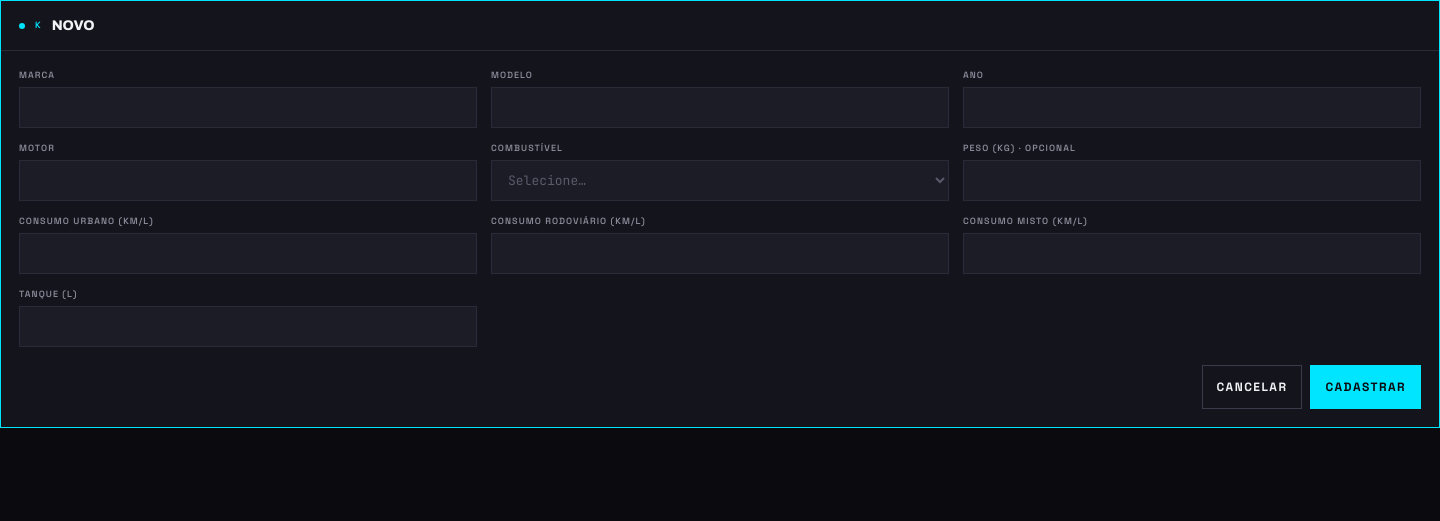
VehicleForm (JOA-RF-01/02) › SPEC: campos inválidos exibem erro e não salvam
The width and height of the screenshot is (1440, 521).
Click the button "CADASTRAR".
click(1366, 387)  # box [1310, 365, 1421, 409]
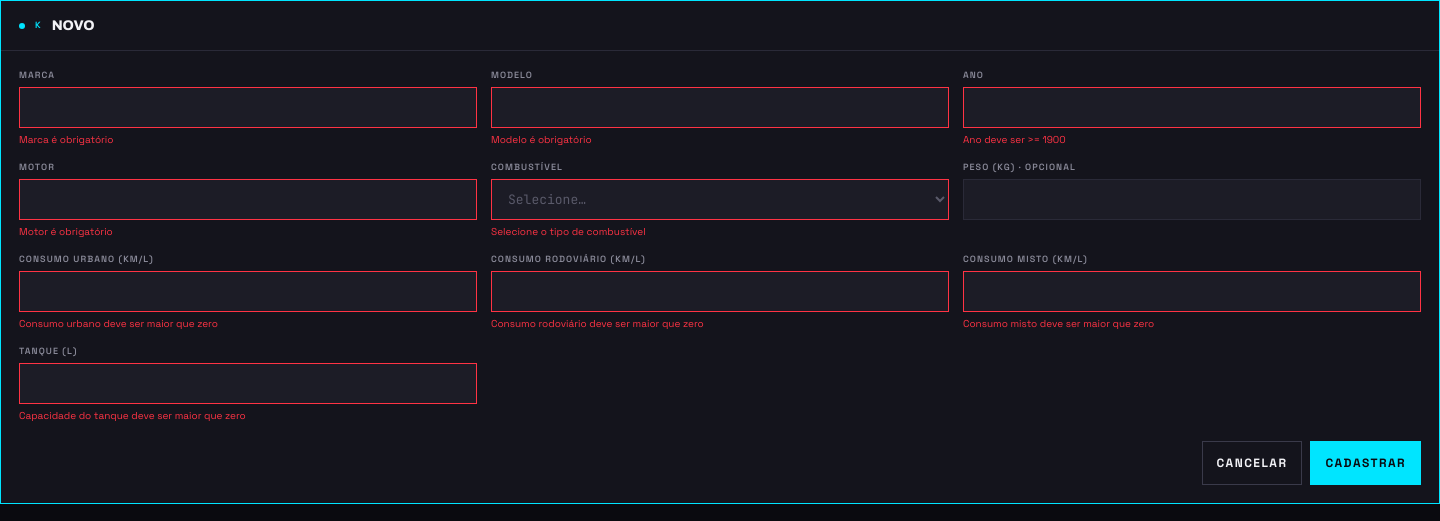
Now the text "Marca é obrigatório" is shown, box [19, 133, 114, 146]
Now the text "Selecione o tipo de combustível" is shown, box [491, 224, 646, 238]
